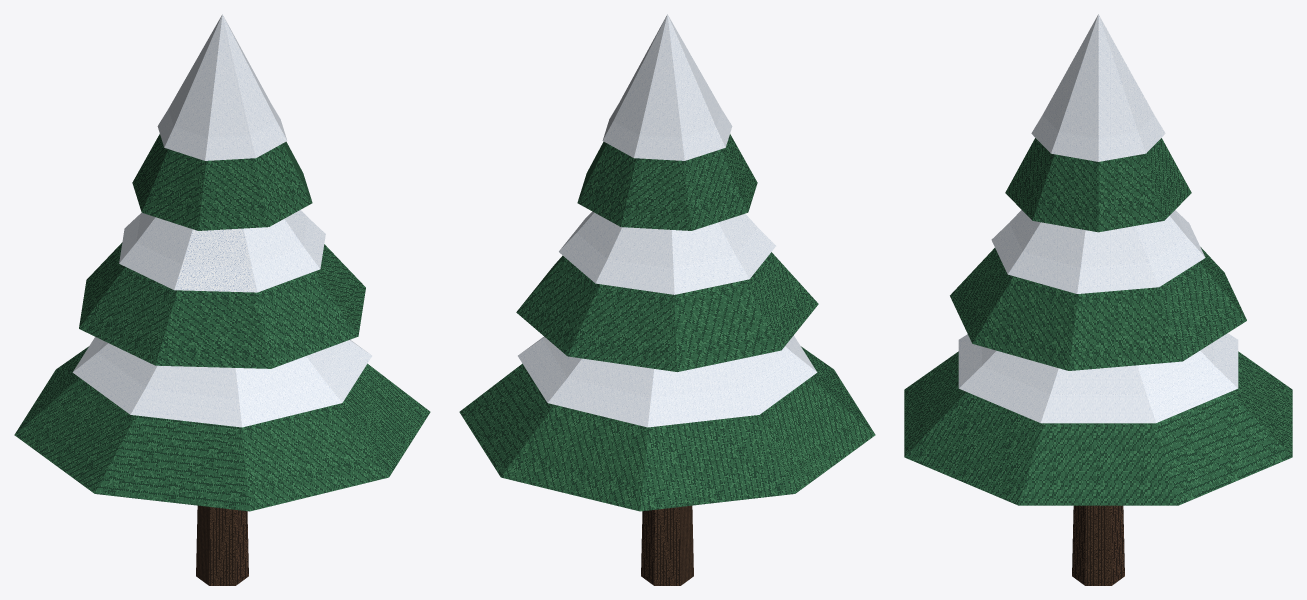
The model's file is tree_pine_snow_small.glb.
3 renders of one model, left to right at view 1: azimuth 30°, elevation 25°; view 2: azimuth 150°, elevation 25°; view 3: azimuth 270°, elevation 25°, orthographic.
Visible parts, largest first — view 1: Body.007; view 2: Body.007; view 3: Body.007.
Part boxes in pixels (x1,y1,x2,y2): Body.007: (14, 14, 430, 585); Body.007: (459, 14, 875, 585); Body.007: (904, 14, 1292, 585).
Bounding box in the file's own units: 3.51 × 5.61 × 3.51.
3 materials, 3 textured.
